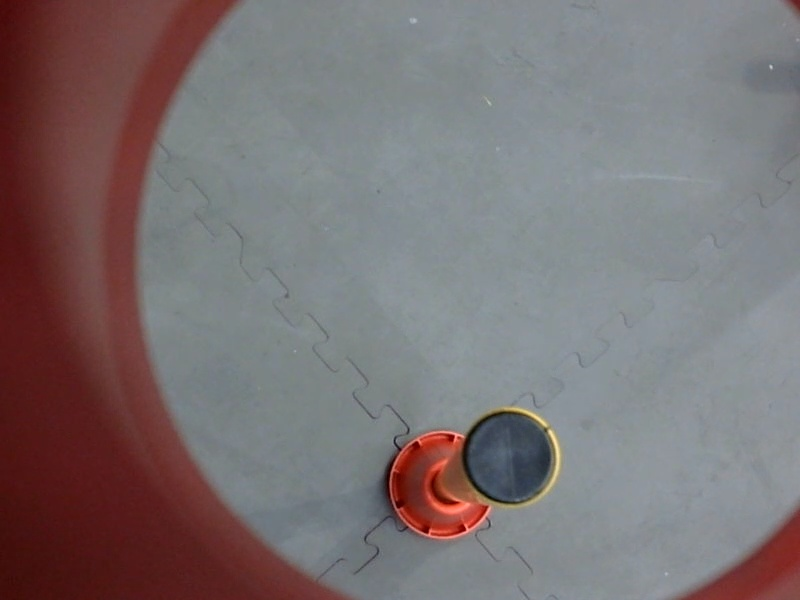tip: (457, 400, 566, 515)
